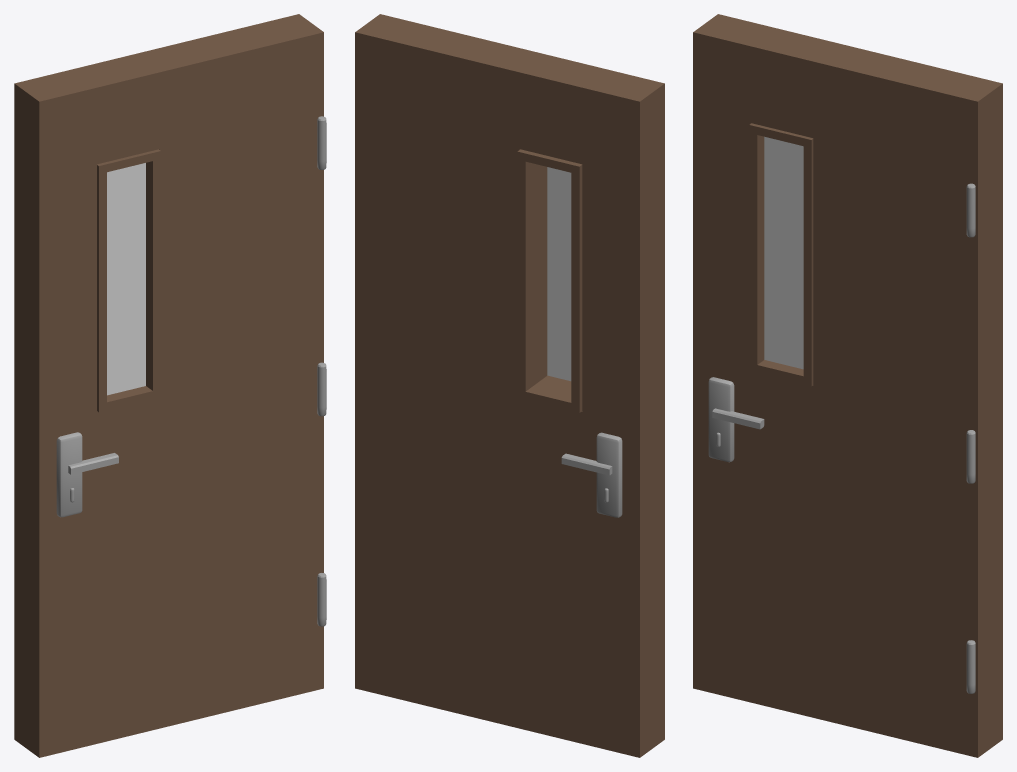
File: daun-pintu.fbx
3 renders of one model, left to right at view 1: azimuth 30°, elevation 25°; view 2: azimuth 150°, elevation 25°; view 3: azimuth 330°, elevation 25°, orthographic.
Parts seen in each view (by area): view 1: Pintu 1.004; view 2: Pintu 1.004; view 3: Pintu 1.004.
Boxes of the visible parts, box(x1,y1,x2,y2) form: Pintu 1.004: box(14, 14, 326, 757); Pintu 1.004: box(355, 14, 664, 757); Pintu 1.004: box(693, 14, 1002, 757).
Size of the model in its own units: 80.48 by 177 by 18.34.
